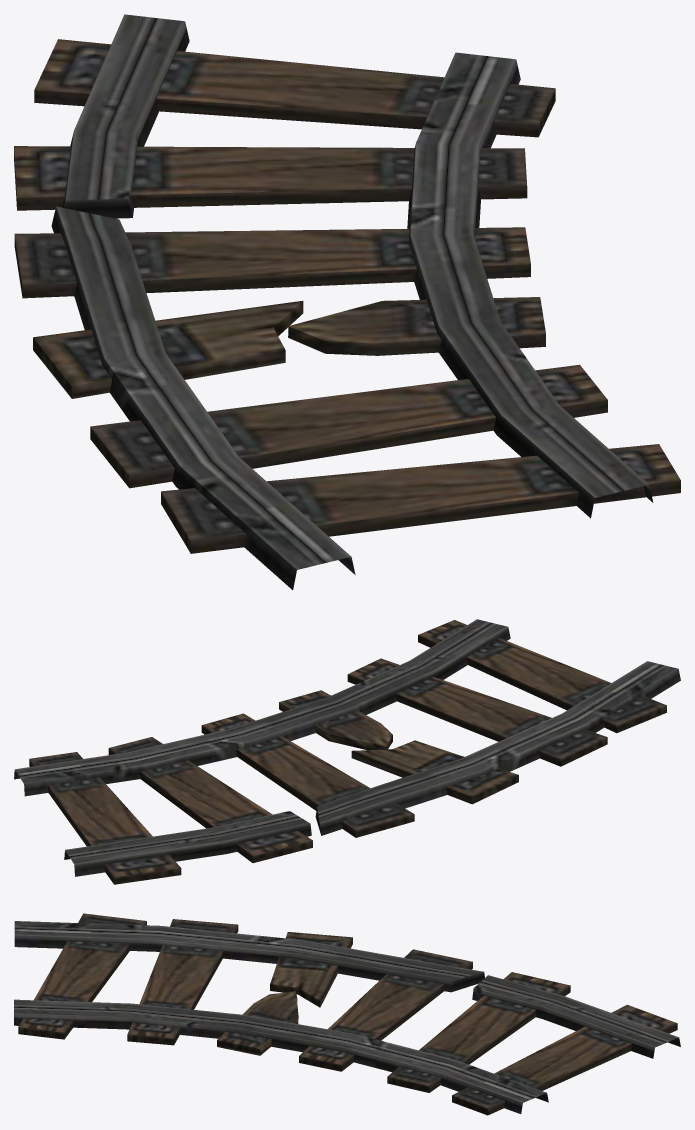
File: Treasure_Rail_03.FBX
3 renders of one model, top to bottom at view 1: azimuth 30°, elevation 25°; view 2: azimuth 150°, elevation 25°; view 3: azimuth 270°, elevation 25°, orthographic. The views are drawn at different scales.
Visible parts, largest first — view 1: Treasure_Rail_03; view 2: Treasure_Rail_03; view 3: Treasure_Rail_03.
Part boxes in pixels (box(x1,y1,x2,y2)): Treasure_Rail_03: box(14, 14, 680, 589); Treasure_Rail_03: box(14, 619, 680, 884); Treasure_Rail_03: box(14, 913, 680, 1115).
Bounding box in the file's own units: 2.27 × 0.058 × 3.28.
